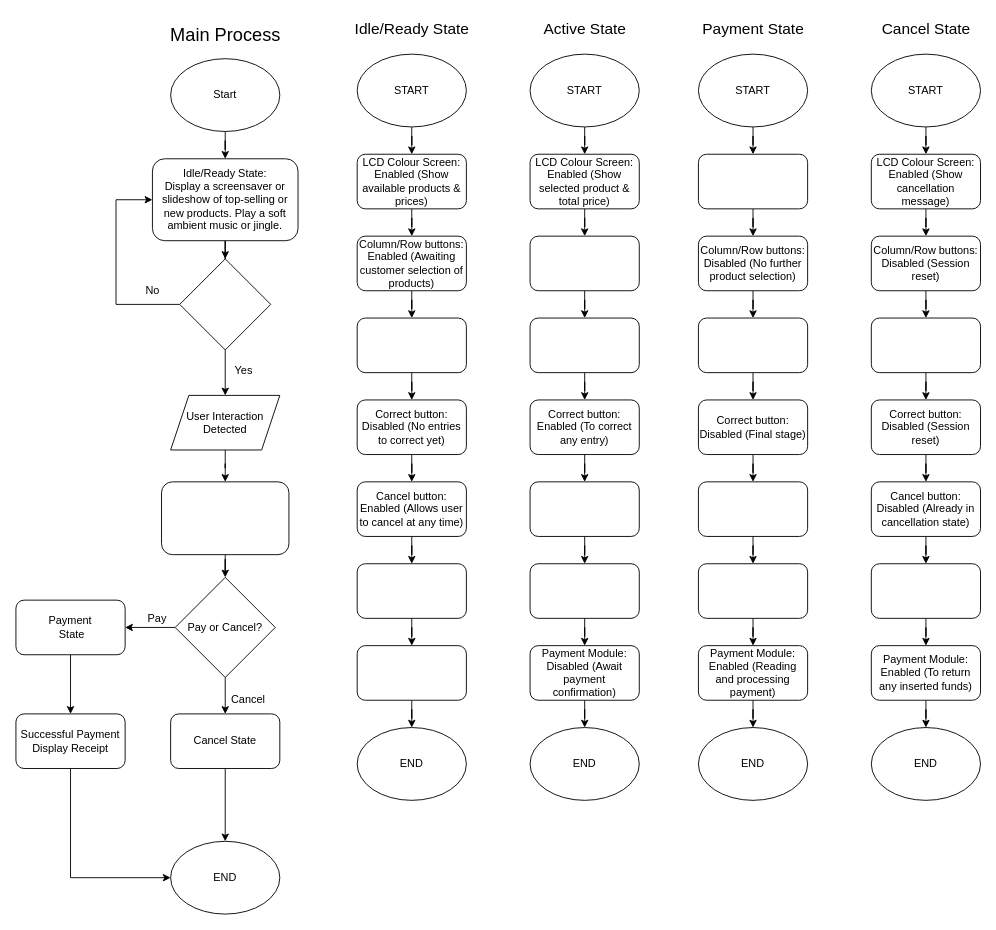
Image size: 996x930. Some labels were removed from this diagram. The centre of each missing label's shape, as x and y in pixels:
"Active State: Display products and prompt user to make a selection." goes at point 225,518.
"Cancel button: Enabled (Allows user to cancel before payment)" goes at point 753,508.
"Cancel button: Enabled (Allows user to cancel)" goes at point 584,508.
"Column/Row buttons: Enabled (For selection of more products)" goes at point 584,263.
"Enter button: Disabled (No more products to add)" goes at point 753,345.
"Enter button: Disabled (Session reset)" goes at point 925,345.
"Enter button: Enabled (For confirming product selection)" goes at point 411,345.
"Enter button: Enabled (To add more products to session)" goes at point 584,345.
"LCD Colour Screen: Enabled (Show payment status & total amount due)" goes at point 753,181.
"Pay button: Disabled (No products selected yet)" goes at point 411,590.
"Pay button: Disabled (Session reset)" goes at point 925,590.
"Pay button: Enabled (For the user to initiate the payment process)" goes at point 753,590.
"Pay button: Enabled (To proceed to payment)" goes at point 584,590.
"Payment Module: Disabled (No payment required yet)" goes at point 411,672.
"User Interaction" goes at point 225,304.
